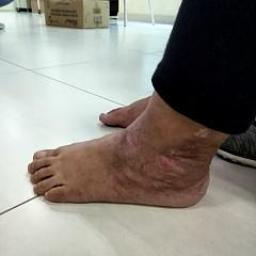Lateral View -Left Foot-: (8, 110, 234, 220)
